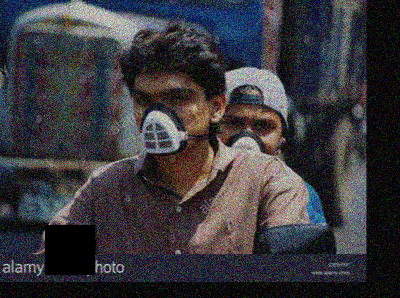with_mask: (132, 84, 209, 159), (220, 109, 281, 156)
